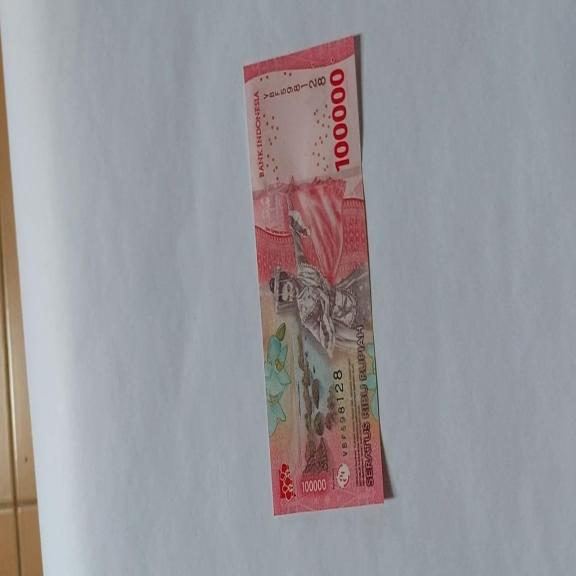Kertas: (242, 35, 385, 516)
